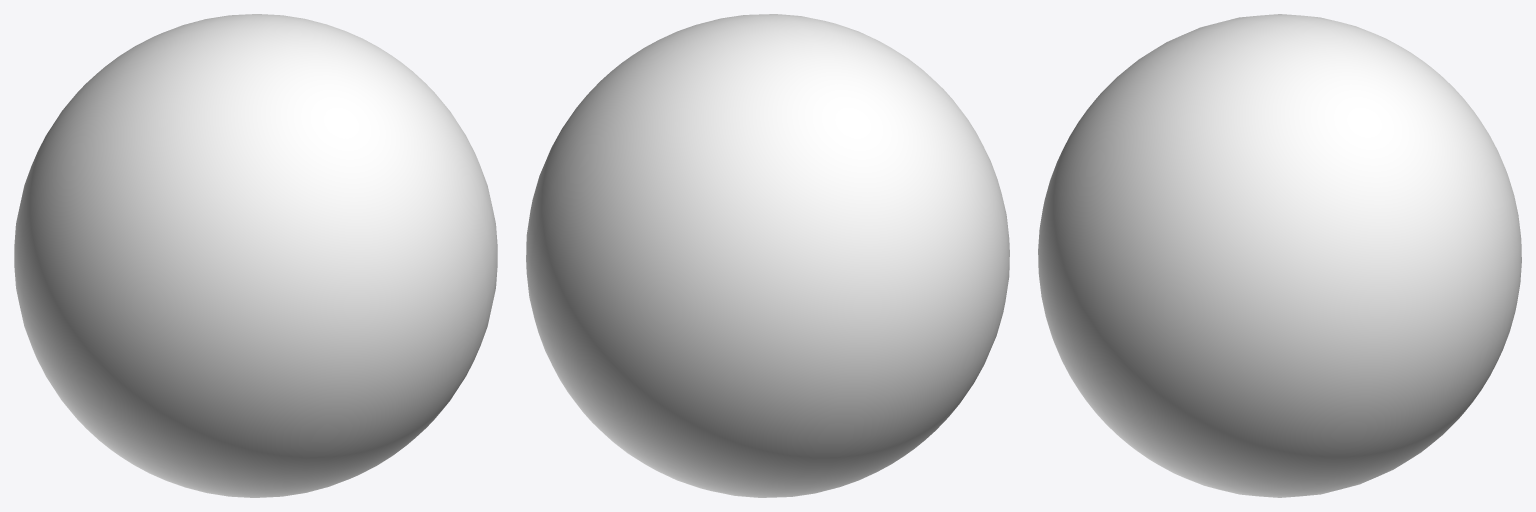
Rendered from Light.obj.
3 views of the same model, side by side, from view 1: azimuth 30°, elevation 25°; view 2: azimuth 150°, elevation 25°; view 3: azimuth 270°, elevation 25° (orthographic).
Parts seen in each view (by area): view 1: Cube.001; view 2: Cube.001; view 3: Cube.001.
Part boxes in pixels (x1,y1,x2,y2): Cube.001: [14, 14, 497, 497]; Cube.001: [526, 14, 1009, 497]; Cube.001: [1038, 14, 1521, 497].
Size of the model in its own units: 0.1878 by 0.1875 by 0.1878.
Materials: 1 (1 with a texture image).
